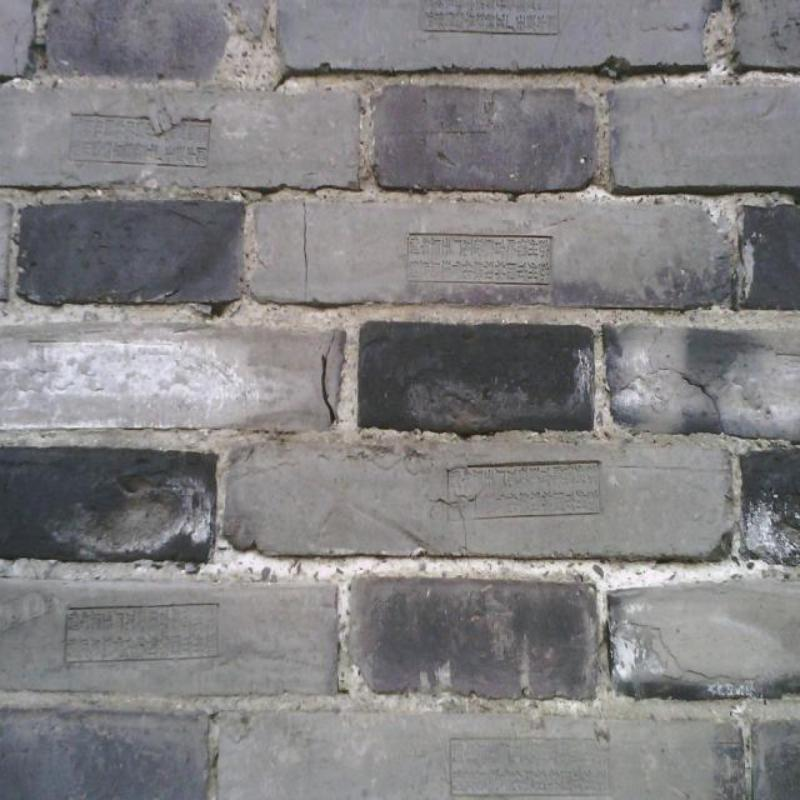pothole: (647, 331, 724, 432), (625, 621, 734, 681), (427, 498, 468, 552), (321, 332, 336, 425), (302, 201, 308, 300), (618, 375, 646, 392), (274, 74, 290, 90), (212, 304, 224, 316)
